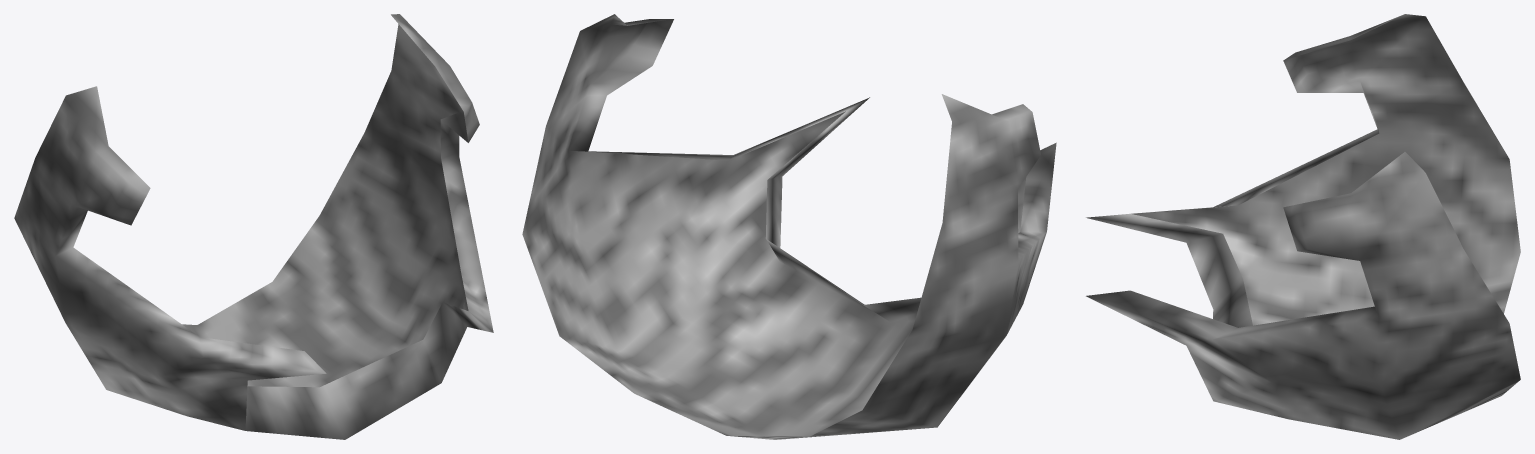
The model's file is Wig_M_Hair_Picard.fbx.
The picture shows the model from 3 angles, left to right: view 1: azimuth 30°, elevation 25°; view 2: azimuth 150°, elevation 25°; view 3: azimuth 270°, elevation 25°; orthographic projection. The views are drawn at different scales.
Parts seen in each view (by area): view 1: BoxOfJars003; view 2: BoxOfJars003; view 3: BoxOfJars003.
Boxes of the visible parts, box(x1,y1,x2,y2) form: BoxOfJars003: box(14, 14, 493, 439); BoxOfJars003: box(522, 14, 1056, 439); BoxOfJars003: box(1086, 14, 1520, 439).
Bounding box in the file's own units: 12.17 × 9.92 × 11.83.
